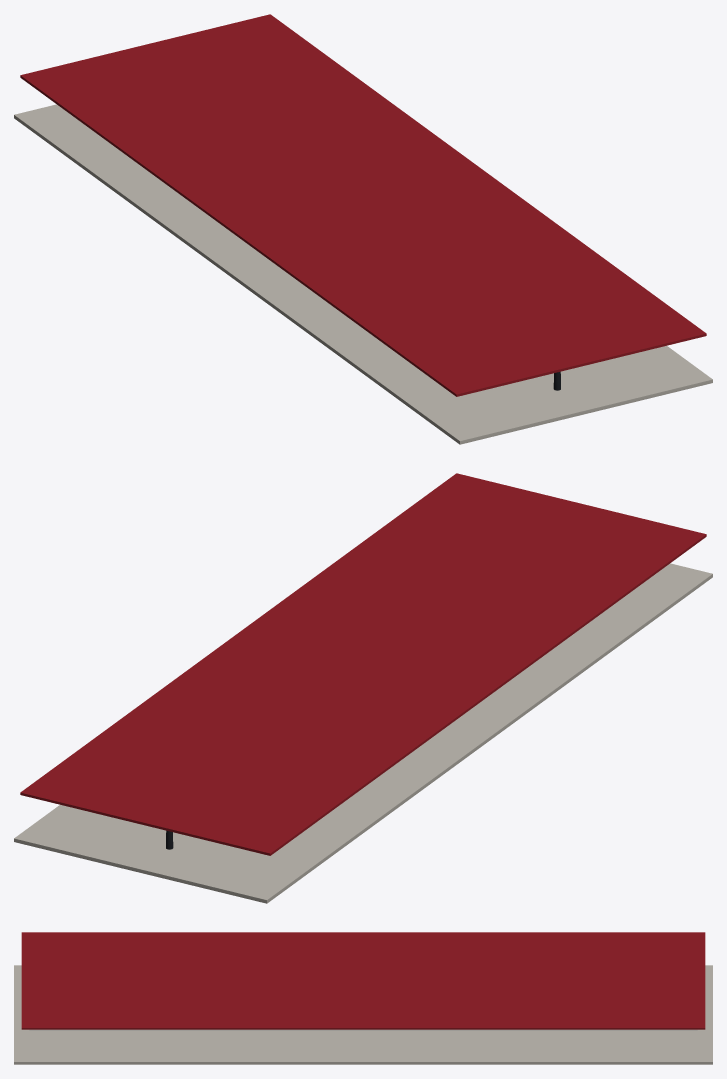
File: bus_stand.glb
The picture shows the model from 3 angles, top to bottom: view 1: azimuth 30°, elevation 25°; view 2: azimuth 150°, elevation 25°; view 3: azimuth 270°, elevation 25°; orthographic projection. The views are drawn at different scales.
Visible parts, largest first — view 1: LOD0_High_CrimsonFascia, LOD0_High_ConcreteMuted; view 2: LOD0_High_CrimsonFascia, LOD0_High_ConcreteMuted; view 3: LOD0_High_CrimsonFascia, LOD0_High_ConcreteMuted, LOD0_High_StuccoWhite.
Boxes of the visible parts, <box> form: LOD0_High_CrimsonFascia: <box>20,14,706,396</box>; LOD0_High_ConcreteMuted: <box>14,104,712,444</box>; LOD0_High_CrimsonFascia: <box>20,473,706,855</box>; LOD0_High_ConcreteMuted: <box>14,563,712,903</box>; LOD0_High_CrimsonFascia: <box>21,932,705,1029</box>; LOD0_High_ConcreteMuted: <box>14,965,712,1064</box>; LOD0_High_StuccoWhite: <box>29,1029,697,1030</box>.
Size of the model in its own units: 26.22 by 4.58 by 80.05.
